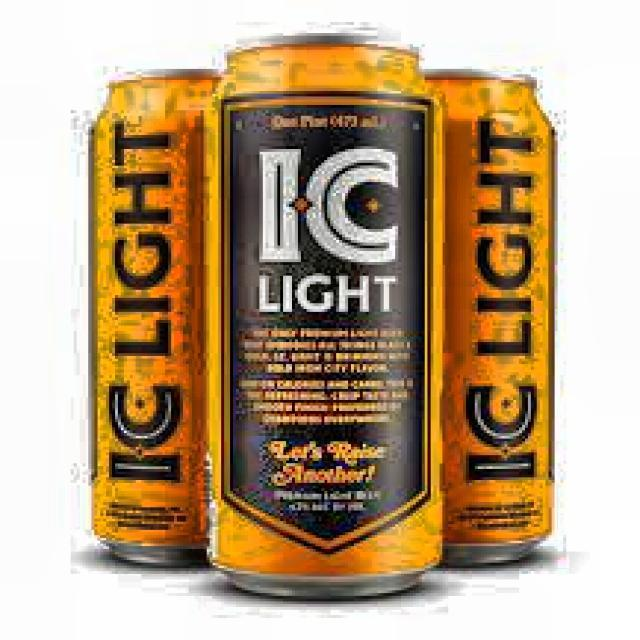litter: (200, 24, 450, 606), (412, 58, 564, 573), (83, 62, 234, 578)
